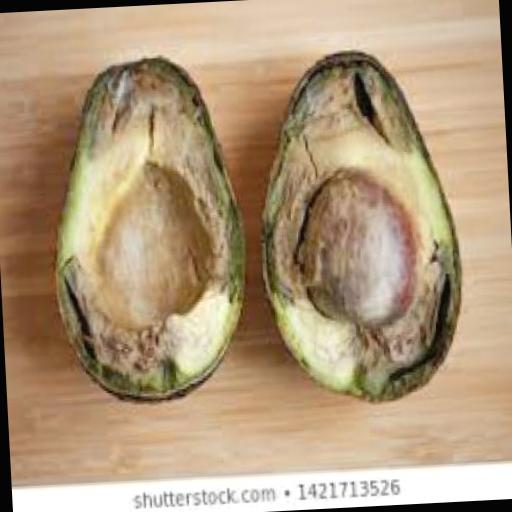biodegradable: (250, 45, 468, 408), (38, 52, 254, 406), (292, 162, 417, 328)
